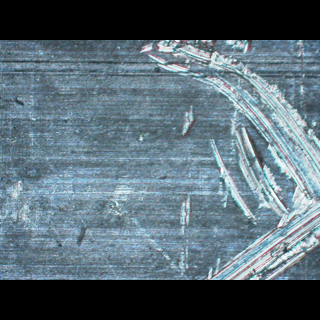d: (134, 40, 319, 279)
